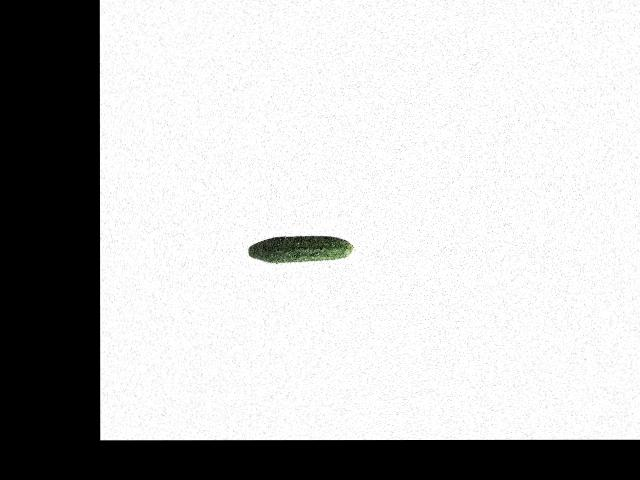cucumber: (247, 236, 353, 262)
